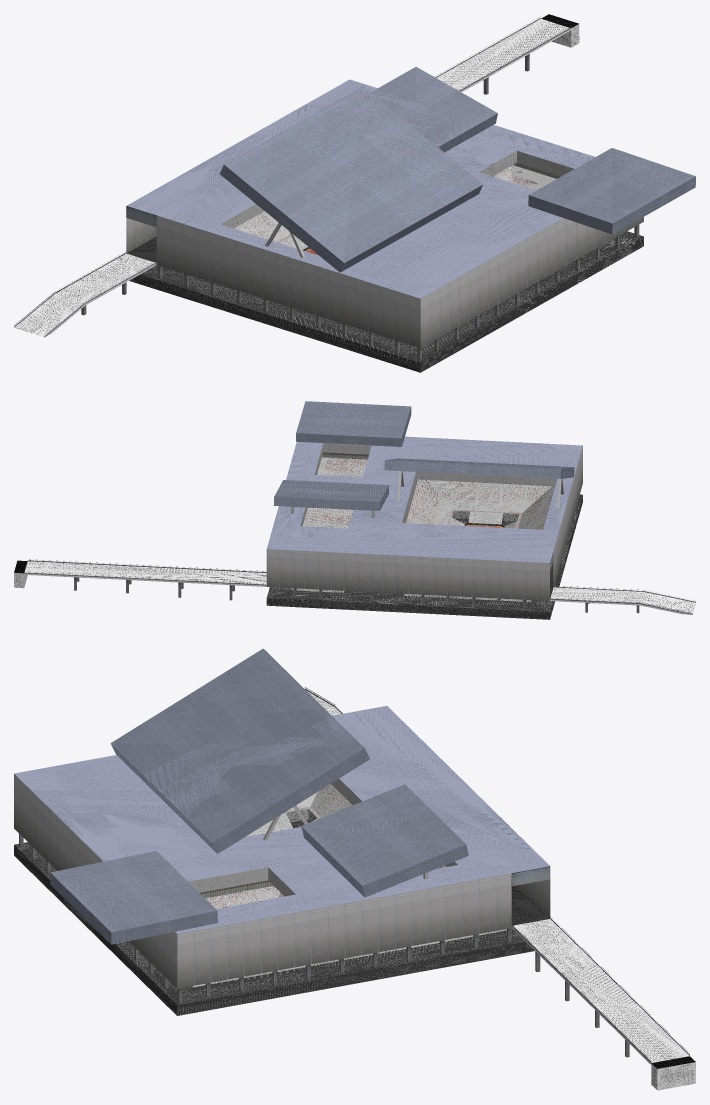
The model's file is tennis.fbx.
3 views of the same model, one above another, from view 1: azimuth 30°, elevation 25°; view 2: azimuth 150°, elevation 25°; view 3: azimuth 270°, elevation 25° (orthographic). The views are drawn at different scales.
Parts seen in each view (by area): view 1: corredera_mini_1_1, techos1, panel_exterior1, Model, corredera_mini1, corredera_mini_2_1, puente1_1, puente1_1_1, pistapeque_a1, grada2; view 2: techos1, panel_exterior1, Model, grada1, corredera_mini1, puente1_1, corredera_mini_2_1, corredera_mini_1_1, puente1_1_1, pistapeque_a1, estadio1_1, pistapeque_a2 (+1 smaller); view 3: techos1, corredera_mini_1_1, panel_exterior1, Model, corredera_mini_2_1, corredera_mini1, puente1_1, pistapeque_a1, grada2.
Boxes of the visible parts, left/top/right/bottom form: corredera_mini_1_1: left=220, top=86, right=482, bottom=272; techos1: left=126, top=79, right=594, bottom=298; panel_exterior1: left=126, top=215, right=643, bottom=347; Model: left=126, top=231, right=643, bottom=372; corredera_mini1: left=528, top=148, right=695, bottom=234; corredera_mini_2_1: left=371, top=67, right=497, bottom=152; puente1_1: left=434, top=14, right=579, bottom=92; puente1_1_1: left=14, top=251, right=156, bottom=337; pistapeque_a1: left=479, top=151, right=573, bottom=190; grada2: left=234, top=211, right=310, bottom=250; techos1: left=267, top=436, right=582, bottom=571; panel_exterior1: left=266, top=446, right=582, bottom=600; Model: left=266, top=490, right=582, bottom=619; grada1: left=406, top=479, right=551, bottom=526; corredera_mini1: left=296, top=401, right=411, bottom=446; puente1_1: left=14, top=559, right=266, bottom=588; corredera_mini_2_1: left=274, top=480, right=388, bottom=510; corredera_mini_1_1: left=384, top=458, right=574, bottom=478; puente1_1_1: left=550, top=585, right=695, bottom=614; pistapeque_a1: left=314, top=443, right=371, bottom=477; estadio1_1: left=402, top=472, right=557, bottom=527; pistapeque_a2: left=300, top=507, right=353, bottom=528; techos1: left=14, top=706, right=550, bottom=933; corredera_mini_1_1: left=110, top=648, right=369, bottom=853; panel_exterior1: left=14, top=774, right=550, bottom=988; Model: left=14, top=842, right=549, bottom=1015; corredera_mini_2_1: left=301, top=784, right=468, bottom=897; corredera_mini1: left=50, top=851, right=217, bottom=944; puente1_1: left=511, top=916, right=695, bottom=1090; pistapeque_a1: left=188, top=867, right=295, bottom=908; grada2: left=245, top=784, right=352, bottom=836.
Size of the model in its own units: 371 by 71.64 by 273.
